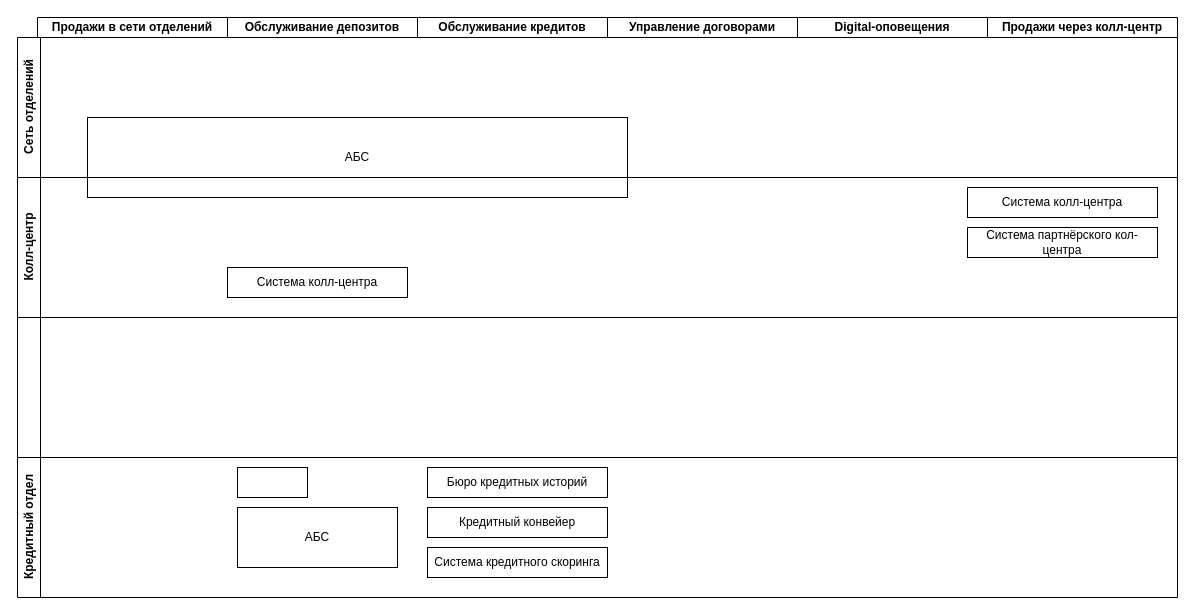
This 1195x615 diagram has some shape labels left out. The shapes that lost their labels are listed below. From the top down, each one's centre as x and y in pixels, then its label:
At [597,387]: "Депозитный отдел".
At [272,482]: "Excel".
